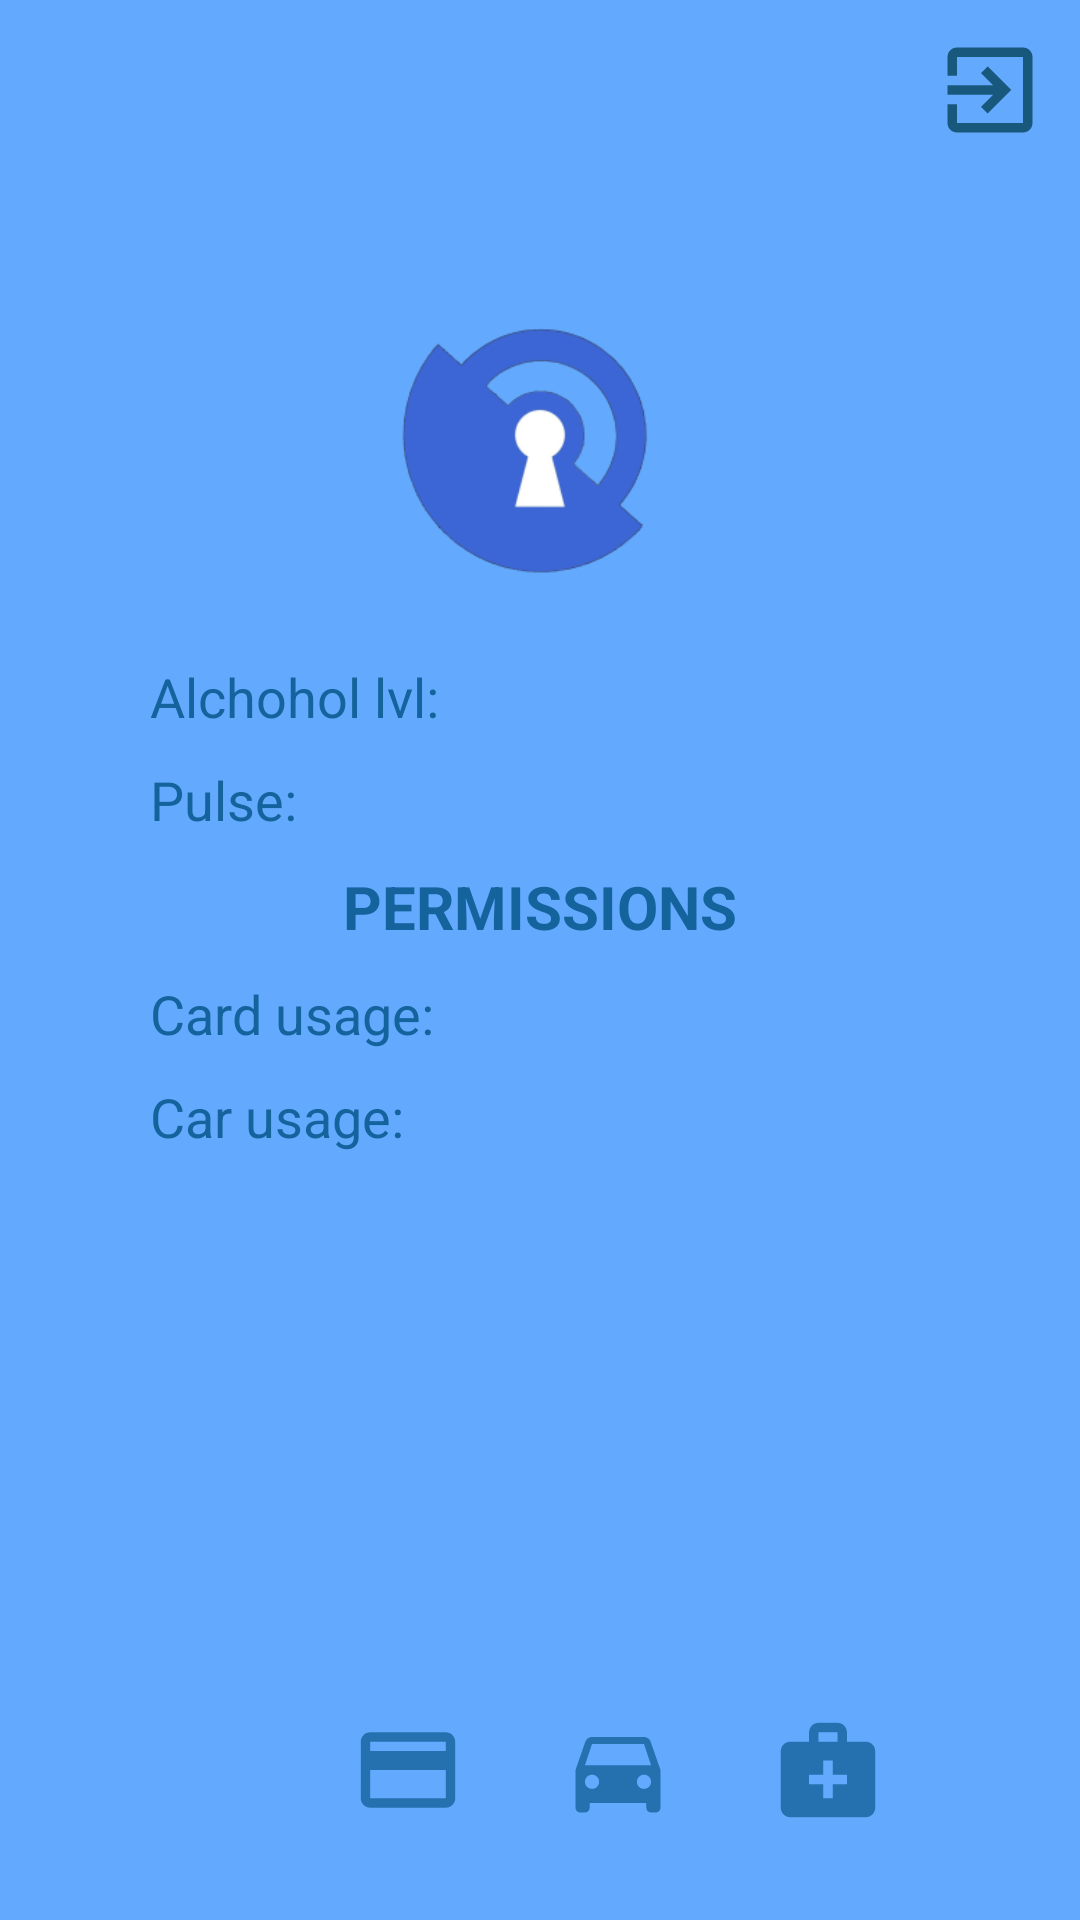

Icon click points for this 1080 x 1920 phone screenshot, format (x,y):
car: (618,1775)
card: (408,1770)
exit: (990,90)
family doctor: (828,1770)
